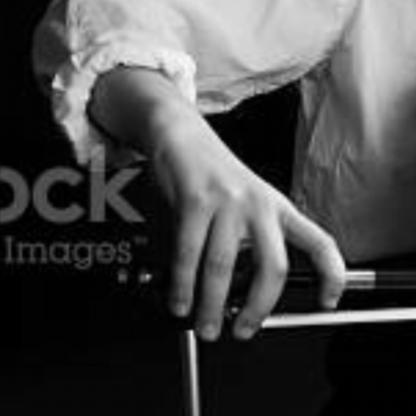good: (145, 161, 349, 346)
